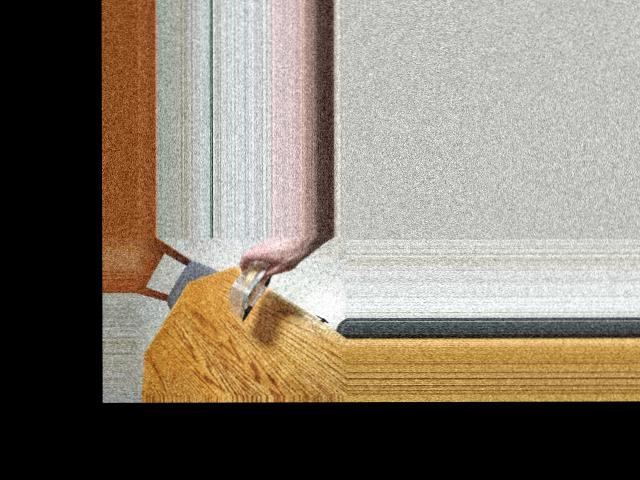cheese: (212, 246, 295, 307)
